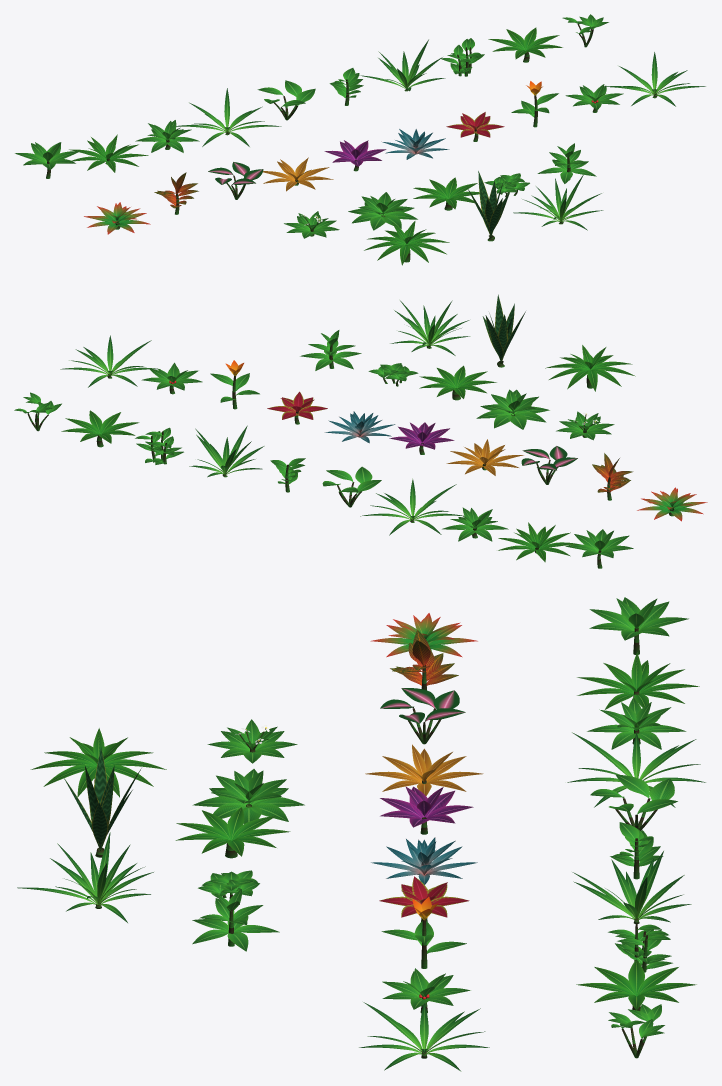
File: Plants.glb
The picture shows the model from 3 angles, top to bottom: view 1: azimuth 30°, elevation 25°; view 2: azimuth 150°, elevation 25°; view 3: azimuth 270°, elevation 25°; orthographic projection. The views are drawn at different scales.
Parts seen in each view (by area): view 1: Planta_01_Helecho_Arboreo, Planta_02_Mata_Hosta, Planta_04_Hierba_Alta, Planta_02_Helecho_Clasico, Planta_07_Sansevieria, Planta_09_Palmita_Radial, Planta_08_Palmita_Cyca, Planta_04_Hojas_Largas_Cinta, Planta_07_Hojas_Espada, Planta_20_Cinta_Zebra, Planta_11_Bromelia_Roja, Planta_14_Helecho_Dorado (+16 smaller); view 2: Planta_01_Helecho_Arboreo, Planta_02_Mata_Hosta, Planta_04_Hierba_Alta, Planta_02_Helecho_Clasico, Planta_07_Hojas_Espada, Planta_08_Palmita_Cyca, Planta_07_Sansevieria, Planta_09_Palmita_Radial, Planta_04_Hojas_Largas_Cinta, Planta_20_Cinta_Zebra, Planta_14_Helecho_Dorado, Planta_01_Tropical_Ancha (+16 smaller); view 3: Planta_02_Mata_Hosta, Planta_01_Helecho_Arboreo, Planta_04_Hierba_Alta, Planta_02_Helecho_Clasico, Planta_08_Palmita_Cyca, Planta_07_Hojas_Espada, Planta_09_Palmita_Radial, Planta_07_Sansevieria, Planta_01_Tropical_Ancha, Planta_14_Helecho_Dorado, Planta_20_Cinta_Zebra, Planta_10_Brote_Niveles (+16 smaller).
Boxes of the visible parts, x1,y1,x2,y2 form: Planta_01_Helecho_Arboreo: (364, 221, 449, 265); Planta_02_Mata_Hosta: (348, 192, 417, 230); Planta_04_Hierba_Alta: (513, 174, 603, 230); Planta_02_Helecho_Clasico: (69, 134, 148, 172); Planta_07_Sansevieria: (467, 171, 509, 241); Planta_09_Palmita_Radial: (488, 27, 562, 62); Planta_08_Palmita_Cyca: (413, 177, 479, 210); Planta_04_Hojas_Largas_Cinta: (176, 88, 281, 146); Planta_07_Hojas_Espada: (359, 39, 445, 91); Planta_20_Cinta_Zebra: (606, 52, 705, 106); Planta_11_Bromelia_Roja: (84, 202, 150, 234); Planta_14_Helecho_Dorado: (263, 157, 333, 191); Planta_01_Helecho_Arboreo: (545, 345, 635, 391); Planta_02_Mata_Hosta: (476, 389, 549, 429); Planta_04_Hierba_Alta: (390, 300, 470, 355); Planta_02_Helecho_Clasico: (498, 522, 580, 562); Planta_07_Hojas_Espada: (189, 425, 264, 477); Planta_08_Palmita_Cyca: (419, 365, 496, 400); Planta_07_Sansevieria: (482, 294, 525, 367); Planta_09_Palmita_Radial: (61, 410, 139, 447); Planta_04_Hojas_Largas_Cinta: (360, 478, 463, 535); Planta_20_Cinta_Zebra: (60, 335, 160, 387); Planta_14_Helecho_Dorado: (446, 439, 523, 475); Planta_01_Tropical_Ancha: (565, 529, 633, 568); Planta_02_Mata_Hosta: (192, 769, 304, 823); Planta_01_Helecho_Arboreo: (30, 728, 166, 797); Planta_04_Hierba_Alta: (17, 832, 153, 922); Planta_02_Helecho_Clasico: (577, 652, 699, 709); Planta_08_Palmita_Cyca: (175, 807, 290, 858); Planta_07_Hojas_Espada: (572, 851, 691, 923); Planta_09_Palmita_Radial: (576, 959, 696, 1011); Planta_07_Sansevieria: (63, 747, 141, 857); Planta_01_Tropical_Ancha: (589, 597, 688, 654); Planta_14_Helecho_Dorado: (365, 744, 483, 795); Planta_20_Cinta_Zebra: (359, 1002, 489, 1071); Planta_10_Brote_Niveles: (192, 889, 279, 951).
Bounding box in the file's own units: 32.58 × 3.22 × 20.92.
20 materials, 18 textured.
